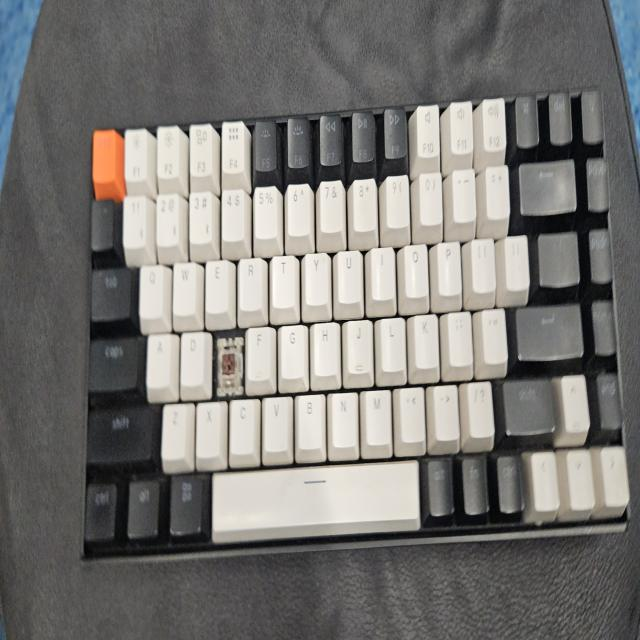C: (218, 336, 240, 390)
